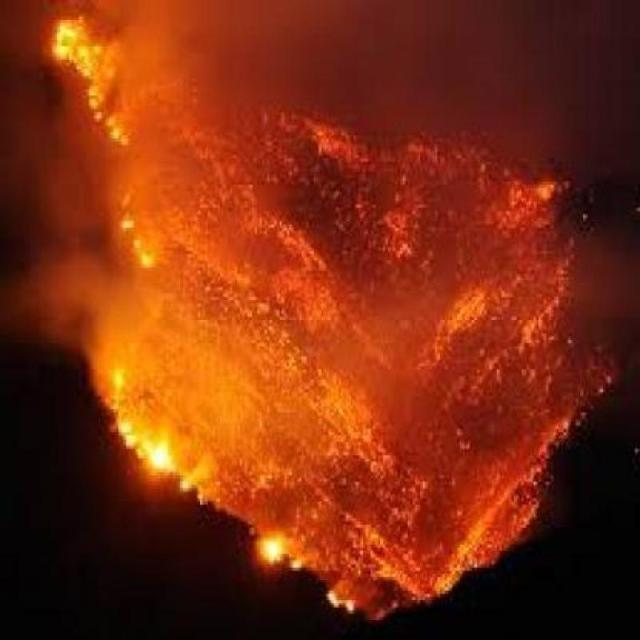Fire: (104, 176, 539, 634), (48, 4, 142, 159), (546, 291, 619, 459)
